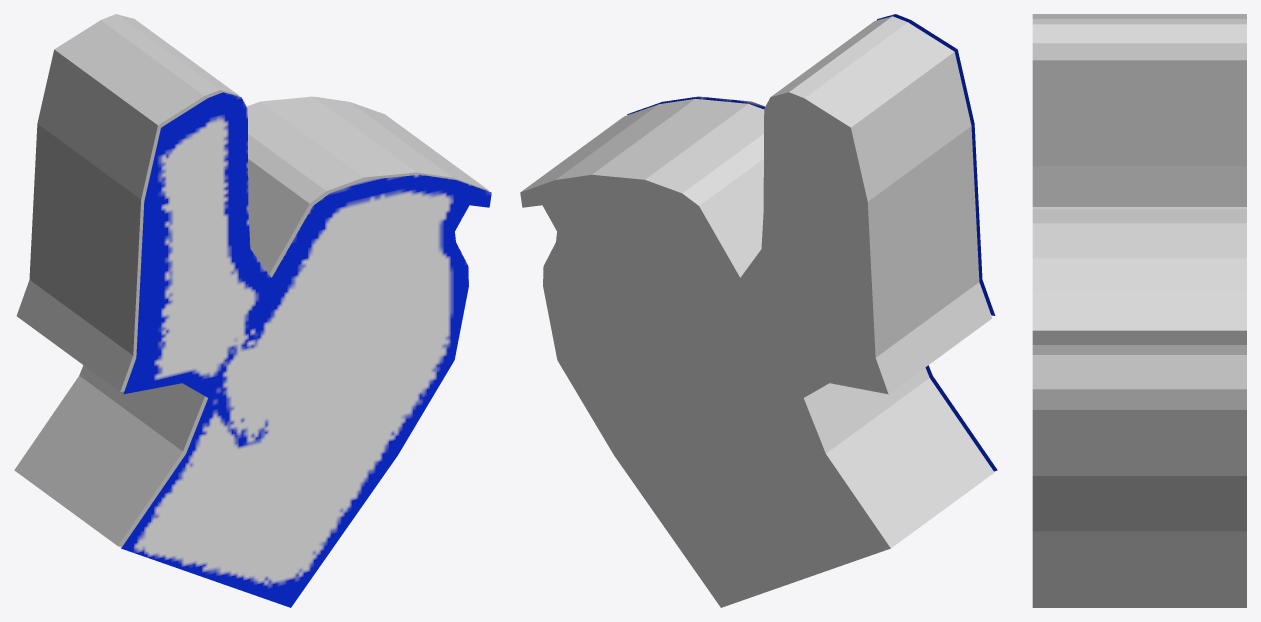
3 views of the same model, side by side, from view 1: azimuth 30°, elevation 25°; view 2: azimuth 150°, elevation 25°; view 3: azimuth 270°, elevation 25° (orthographic). The views are drawn at different scales.
Visible parts, largest first — view 1: In_8_1, In_8_0; view 2: In_8_0, In_8_1; view 3: In_8_0.
Boxes of the visible parts, x1,y1,x2,y2 form: In_8_1: (121, 92, 491, 607); In_8_0: (14, 14, 488, 547); In_8_0: (520, 16, 994, 607); In_8_1: (627, 14, 997, 471); In_8_0: (1032, 14, 1246, 607).
Size of the model in its own units: 1.03 by 1.42 by 0.515.
2 materials, 1 textured.
